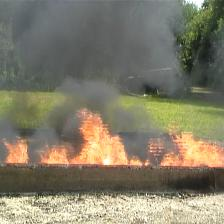fire: (38, 108, 151, 166), (159, 123, 224, 167), (3, 136, 29, 163)
